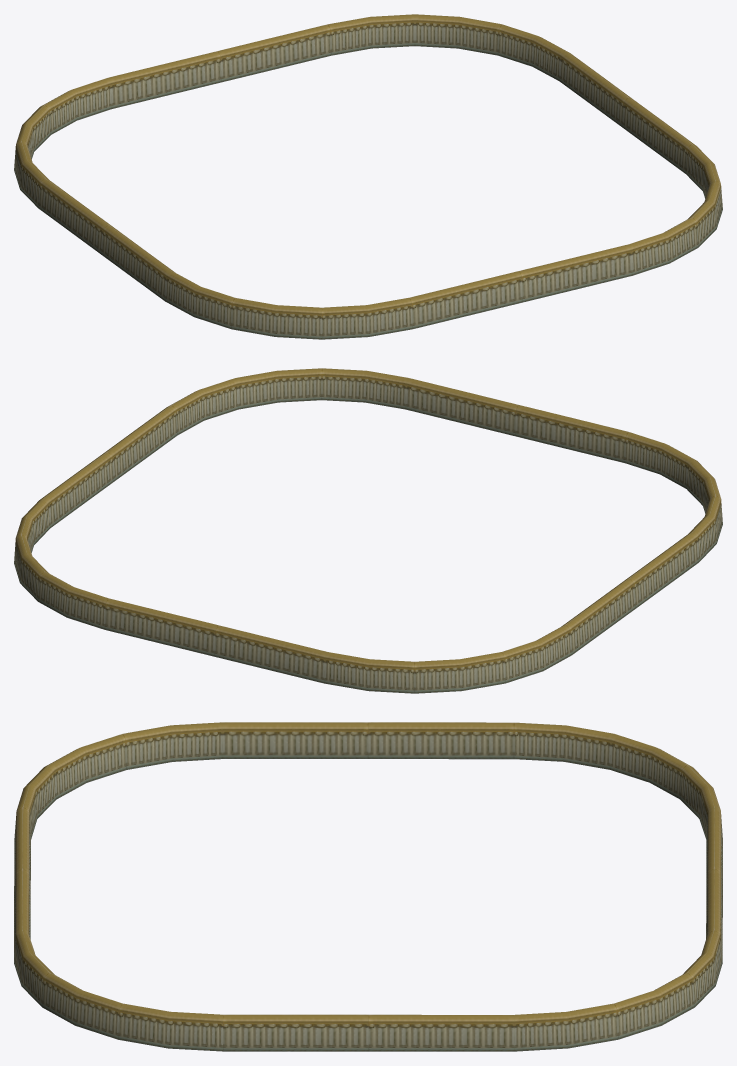
The model's file is Centercastle_Railing_a.FBX.
The picture shows the model from 3 angles, top to bottom: view 1: azimuth 30°, elevation 25°; view 2: azimuth 150°, elevation 25°; view 3: azimuth 270°, elevation 25°; orthographic projection. The views are drawn at different scales.
Parts seen in each view (by area): view 1: Centercastle_Railing_a; view 2: Centercastle_Railing_a; view 3: Centercastle_Railing_a.
Part boxes in pixels (x1,y1,x2,y2): Centercastle_Railing_a: [14, 14, 722, 339]; Centercastle_Railing_a: [14, 368, 722, 693]; Centercastle_Railing_a: [14, 722, 722, 1051].
Bounding box in the file's own units: 962 × 49.79 × 962.
1 material, 1 textured.
